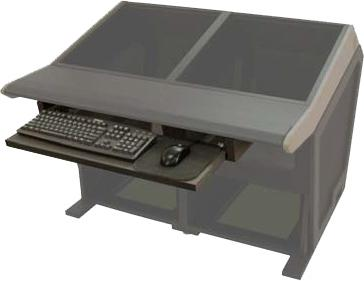keyboard: (12, 101, 159, 167)
mouse: (154, 141, 195, 170)
